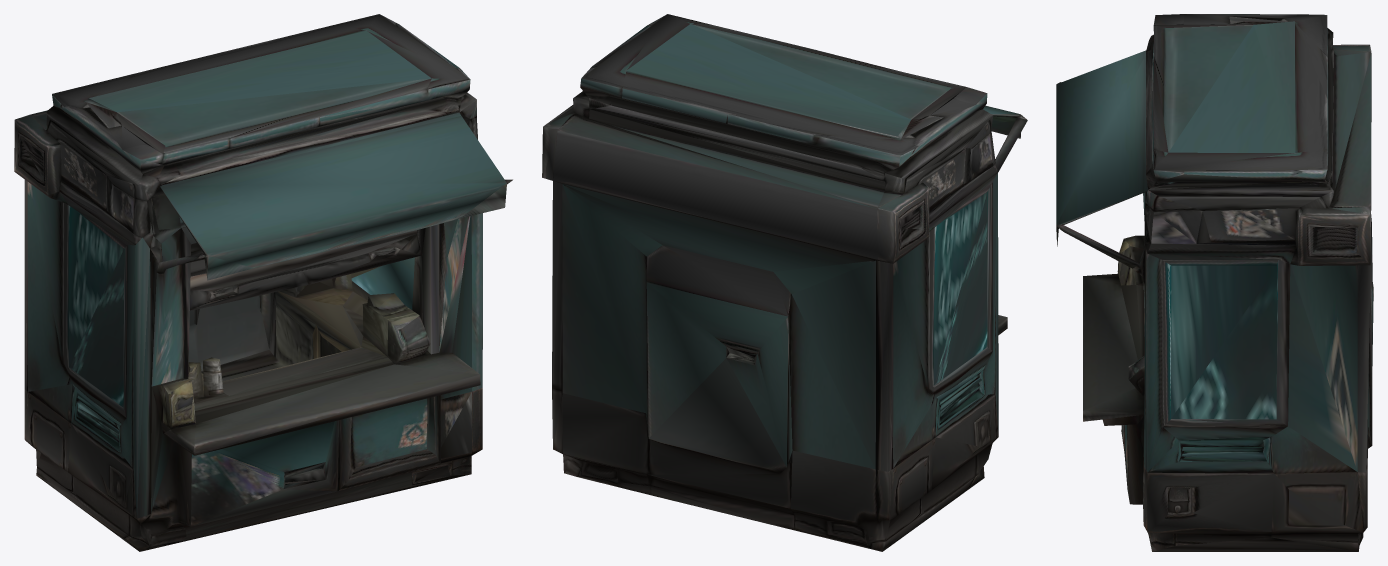
Rendered from street_kiosk.glb.
3 renders of one model, left to right at view 1: azimuth 30°, elevation 25°; view 2: azimuth 150°, elevation 25°; view 3: azimuth 270°, elevation 25°, orthographic. The views are drawn at different scales.
Bounding box in the file's own units: 0.957 × 0.9996 × 0.7478.
1 material, 1 textured.
